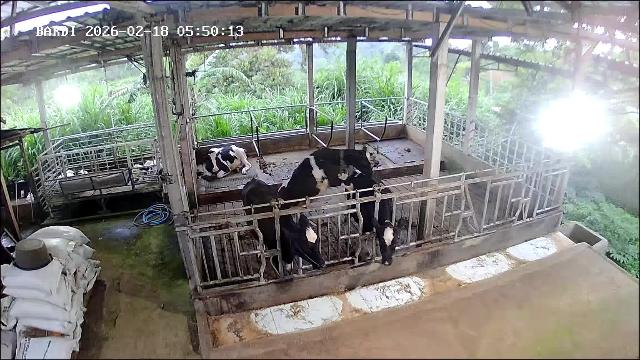mounting: (281, 144, 373, 220)
